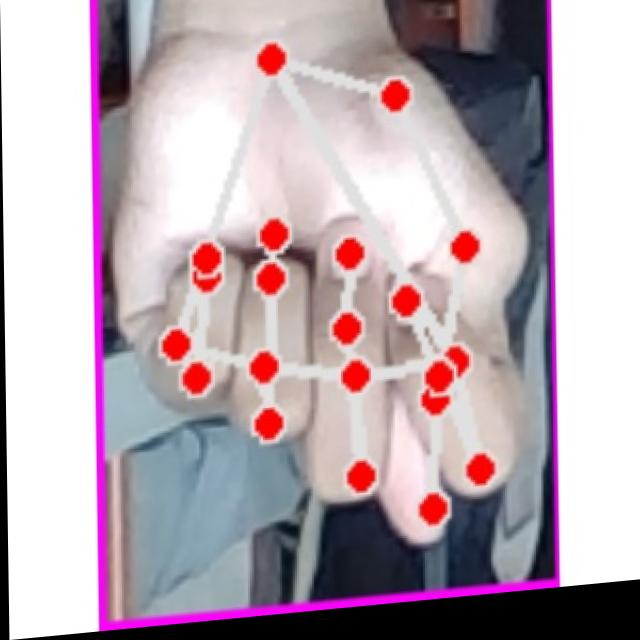T: (114, 32, 527, 612)
